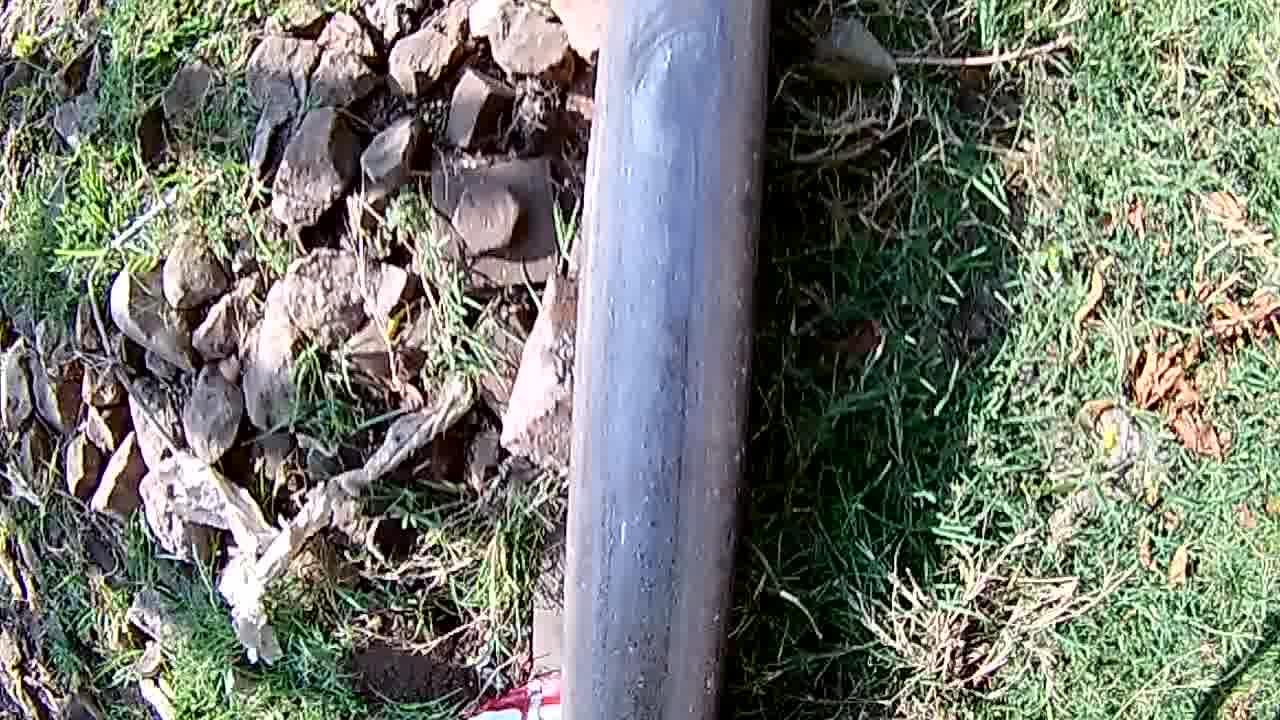bolt_missing: (588, 0, 776, 715)
